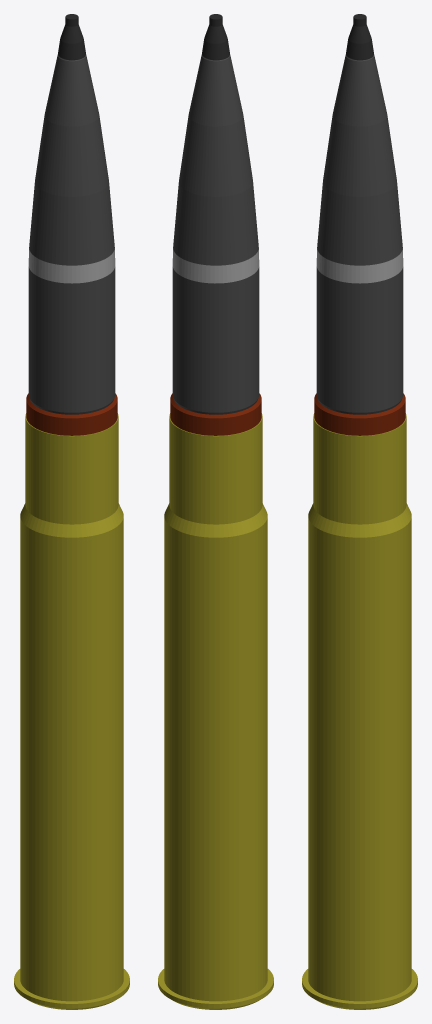
Rendered from bala.obj.
3 views of the same model, side by side, from view 1: azimuth 90°, elevation 25°; view 2: azimuth 150°, elevation 25°; view 3: azimuth 270°, elevation 25° (orthographic).
Visible parts, largest first — view 1: Circle.013_Circle.018, Circle.014_Circle.019; view 2: Circle.013_Circle.018, Circle.014_Circle.019; view 3: Circle.013_Circle.018, Circle.014_Circle.019.
Boxes of the visible parts, x1,y1,x2,y2 form: Circle.013_Circle.018: [14, 413, 129, 1009]; Circle.014_Circle.019: [26, 14, 117, 435]; Circle.013_Circle.018: [158, 413, 273, 1009]; Circle.014_Circle.019: [170, 14, 261, 435]; Circle.013_Circle.018: [302, 413, 417, 1009]; Circle.014_Circle.019: [314, 14, 405, 435].
Size of the model in its own units: 0.5989 by 5.53 by 0.5989.
